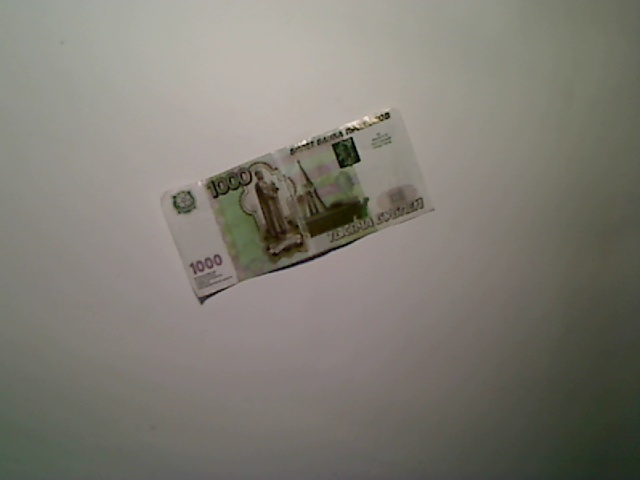banknotes: (160, 105, 435, 300)
